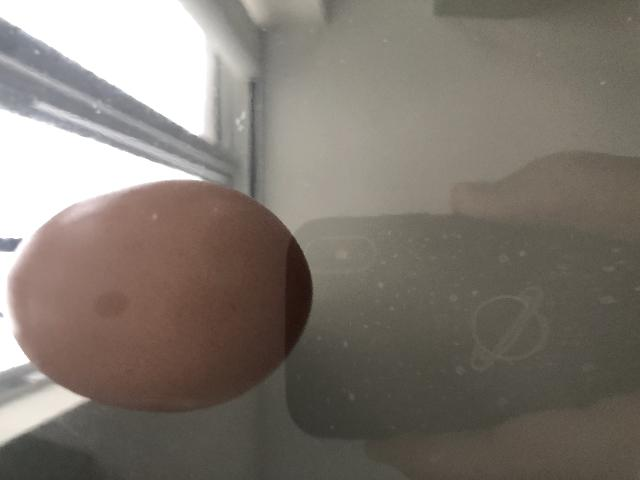Sano: (6, 177, 314, 414)
